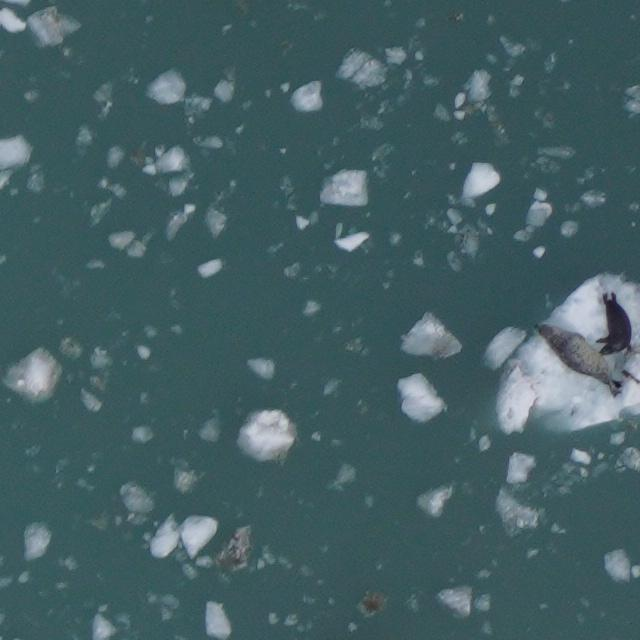seal: (532, 320, 628, 404), (591, 287, 637, 362)
